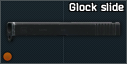Glock 9x19 pistol slide: (0, 0, 127, 64)
